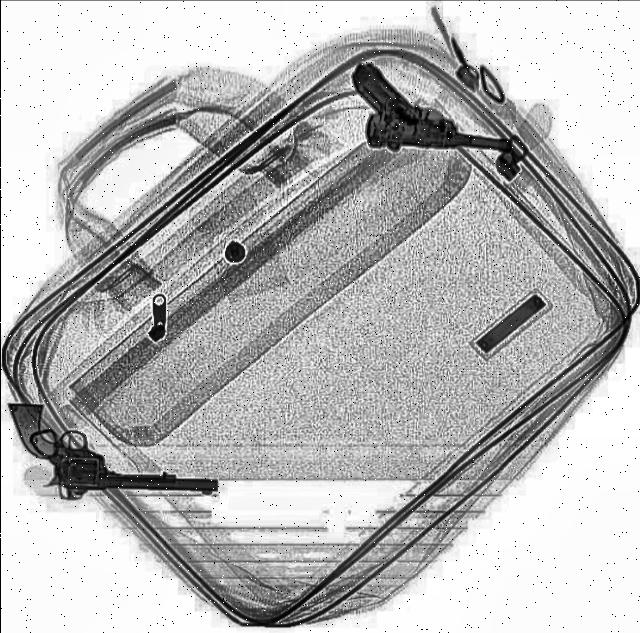Gun: (9, 402, 217, 499), (346, 58, 520, 156)
